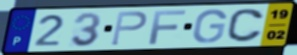2: (33, 14, 66, 48)
3: (70, 11, 104, 48)
C: (225, 8, 266, 43)
F: (147, 9, 189, 46)
G: (191, 8, 229, 45)
P: (109, 10, 149, 47)
